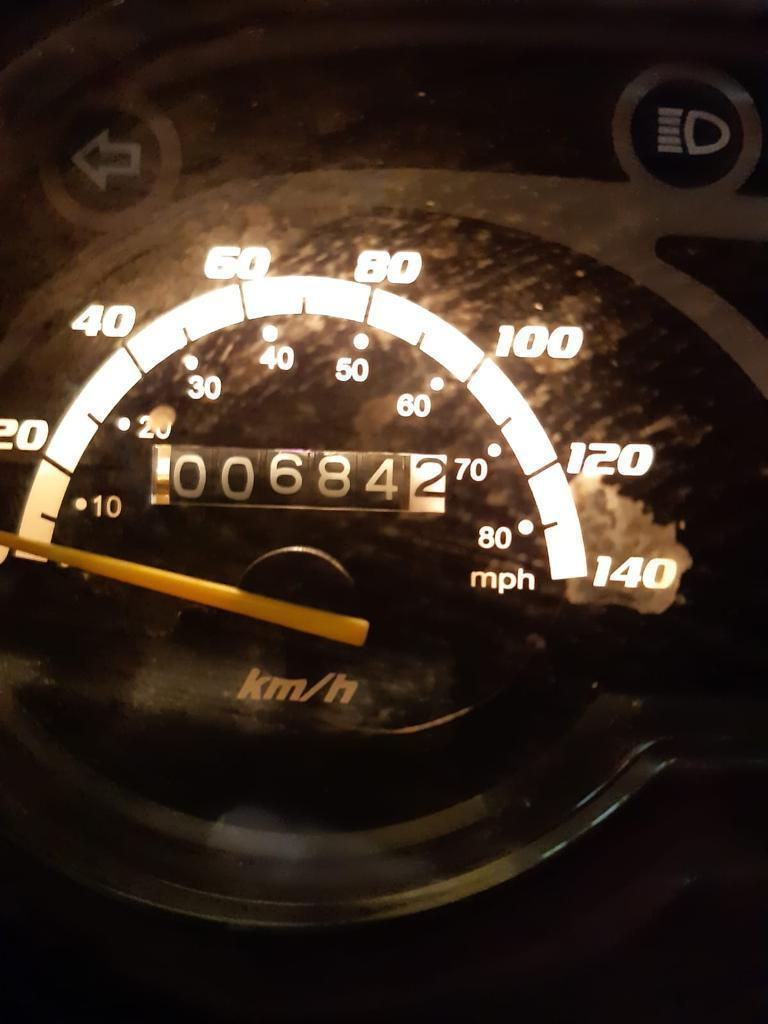0: (217, 452, 257, 501), (173, 447, 207, 500)
2: (409, 452, 448, 501)
4: (362, 456, 400, 503)
6: (268, 450, 304, 497)
8: (317, 452, 354, 501)
odometer: (143, 440, 450, 519)
